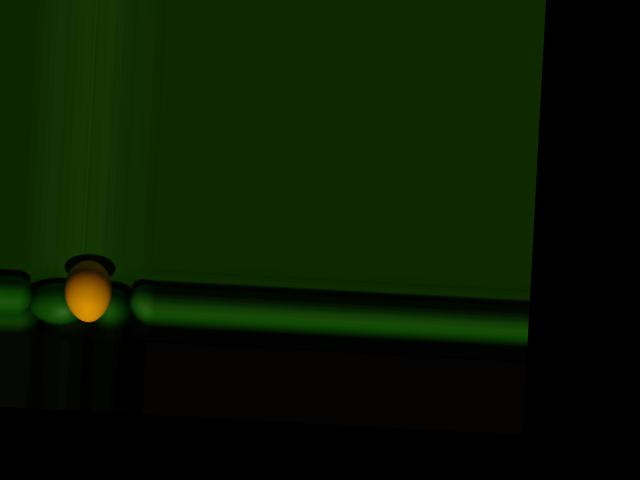egg: (62, 258, 113, 322)
